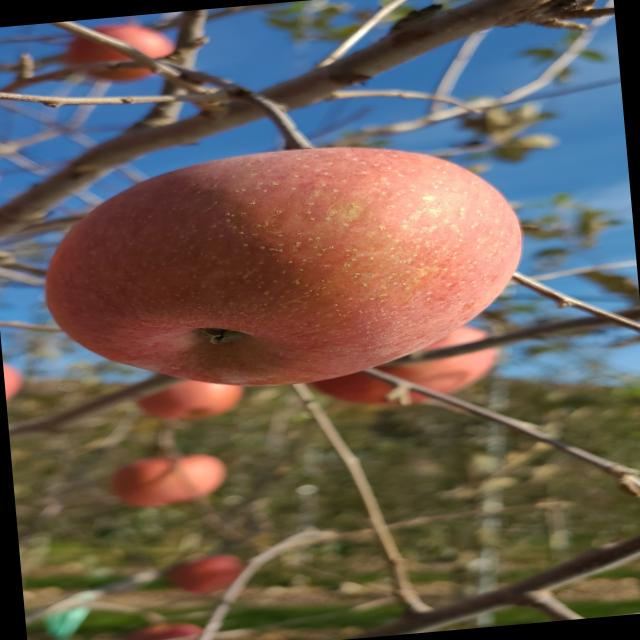fresh: (23, 122, 552, 415)
